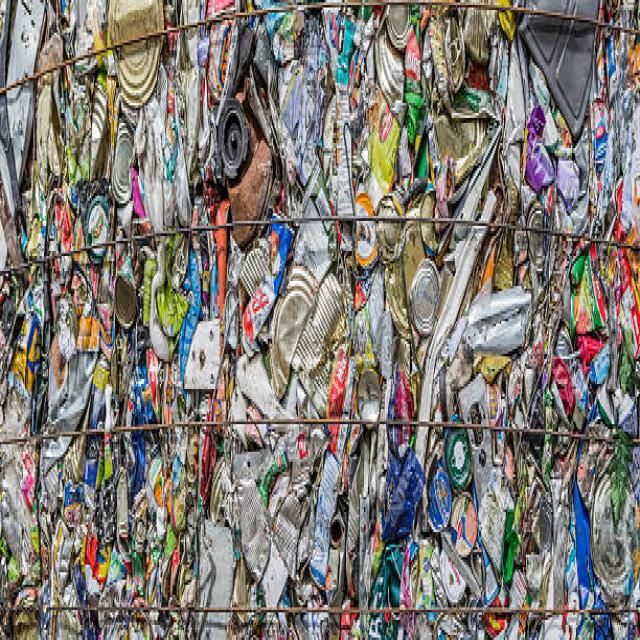metal: (15, 25, 630, 628)
